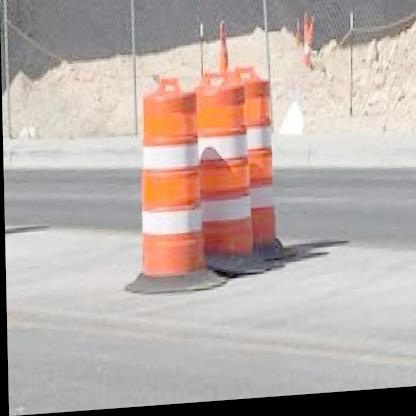obstacle: (137, 89, 202, 282), (194, 72, 252, 265)
